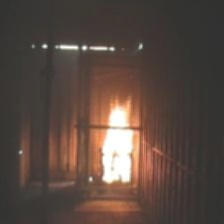fire: (98, 94, 140, 183)
